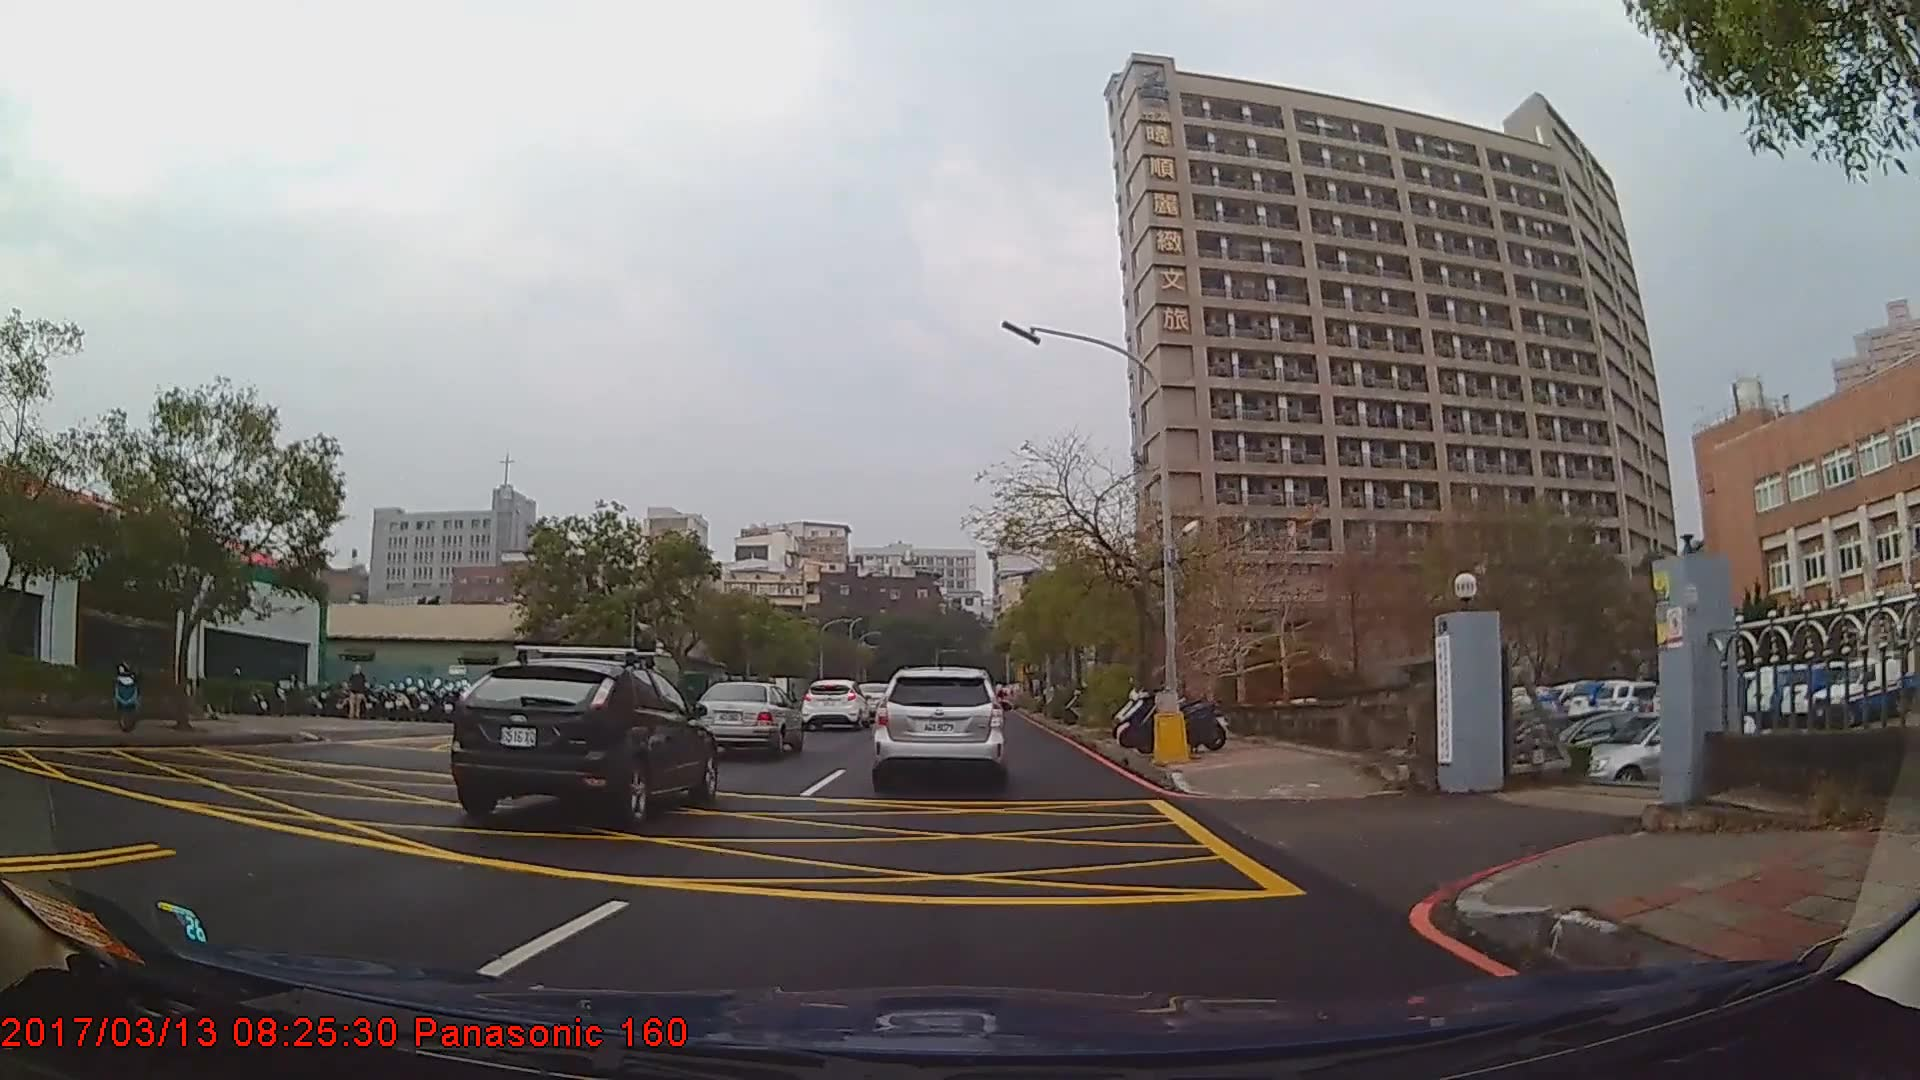pedestrian: (349, 663, 369, 722)
vehicle: (447, 658, 715, 829), (873, 666, 1003, 787), (691, 680, 804, 759), (801, 678, 870, 732)
